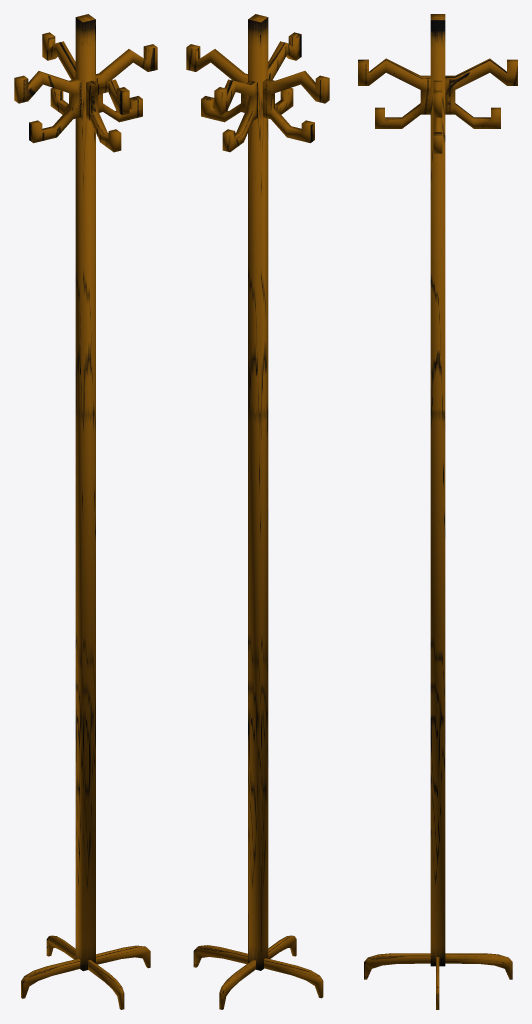
File: perchero.obj
3 renders of one model, left to right at view 1: azimuth 30°, elevation 25°; view 2: azimuth 150°, elevation 25°; view 3: azimuth 270°, elevation 25°, orthographic.
Visible parts, largest first — view 1: Cube; view 2: Cube; view 3: Cube.
Boxes of the visible parts, x1=… form: Cube: x1=14, y1=14, x2=157, y2=1009; Cube: x1=186, y1=14, x2=329, y2=1009; Cube: x1=358, y1=14, x2=517, y2=1009.
Bounding box in the file's own units: 9.07 × 60.24 × 9.07.
